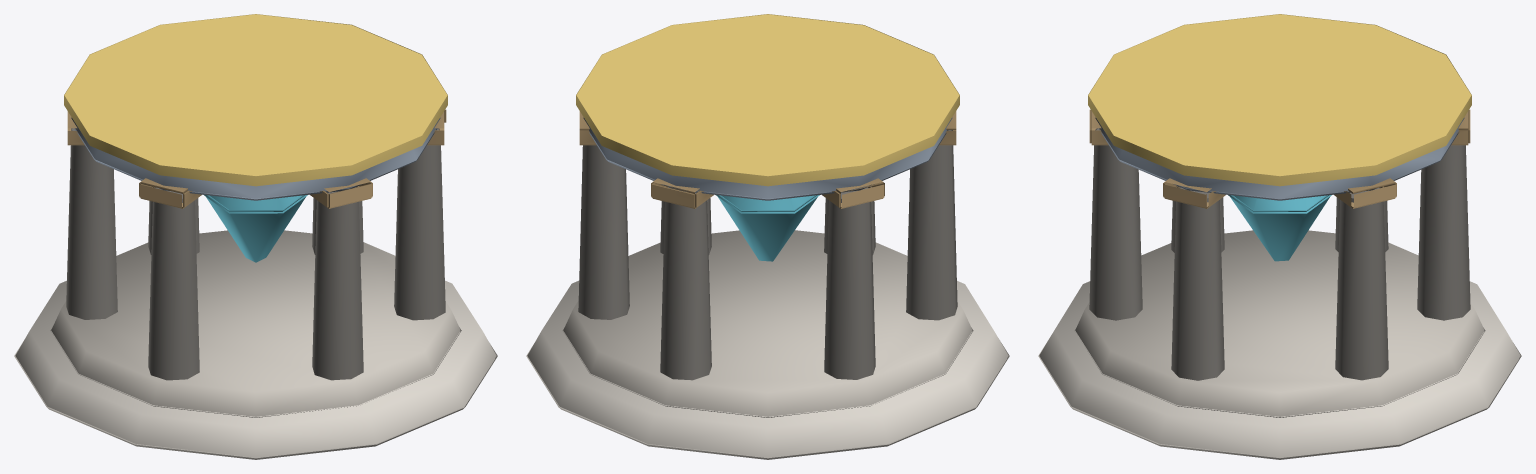
Rendered from clan_hall_shield_dome_lod1.glb.
3 renders of one model, left to right at view 1: azimuth 30°, elevation 25°; view 2: azimuth 150°, elevation 25°; view 3: azimuth 270°, elevation 25°, orthographic.
Visible parts, largest first — view 1: clan_hall_shield_dome.001; view 2: clan_hall_shield_dome.001; view 3: clan_hall_shield_dome.001.
Part boxes in pixels (x1,y1,x2,y2): clan_hall_shield_dome.001: [14, 14, 497, 459]; clan_hall_shield_dome.001: [526, 14, 1009, 459]; clan_hall_shield_dome.001: [1038, 14, 1521, 459].
Bounding box in the file's own units: 3.66 × 2.2 × 3.66.
